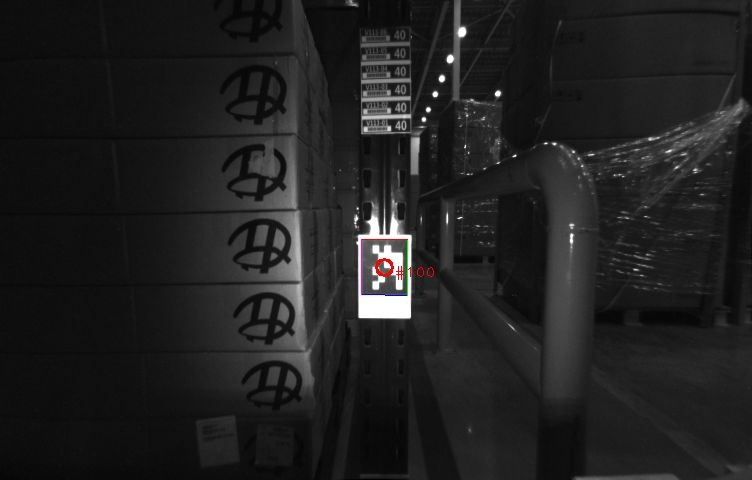True Barcode: (256, 426, 294, 465)
